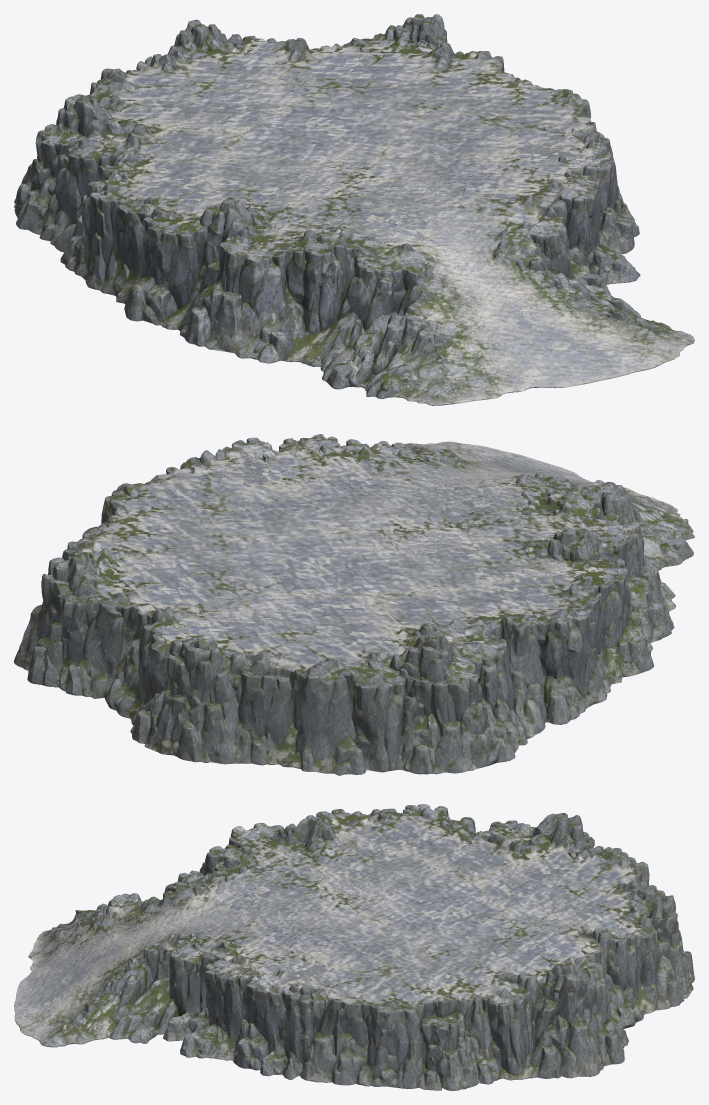
The model's file is runtime-candidate.glb.
The picture shows the model from 3 angles, top to bottom: view 1: azimuth 30°, elevation 25°; view 2: azimuth 150°, elevation 25°; view 3: azimuth 270°, elevation 25°; orthographic projection. The views are drawn at different scales.
Parts seen in each view (by area): view 1: Mesh_0; view 2: Mesh_0; view 3: Mesh_0.
Boxes of the visible parts, x1,y1,x2,y2 form: Mesh_0: (14, 14, 694, 405); Mesh_0: (14, 434, 694, 775); Mesh_0: (14, 804, 694, 1090).
Size of the model in its own units: 1.44 by 0.2988 by 1.9.
Materials: 1 (1 with a texture image).
